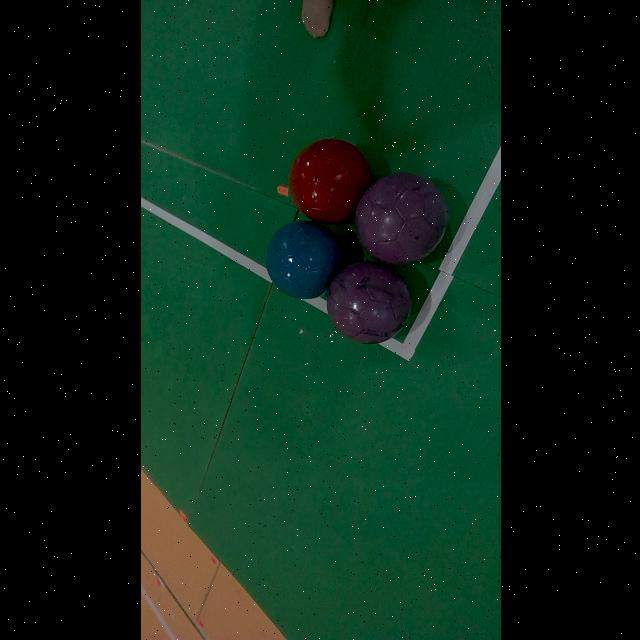B: (265, 220, 342, 299)
P: (355, 173, 447, 265), (326, 261, 411, 344)
R: (289, 138, 371, 224)
